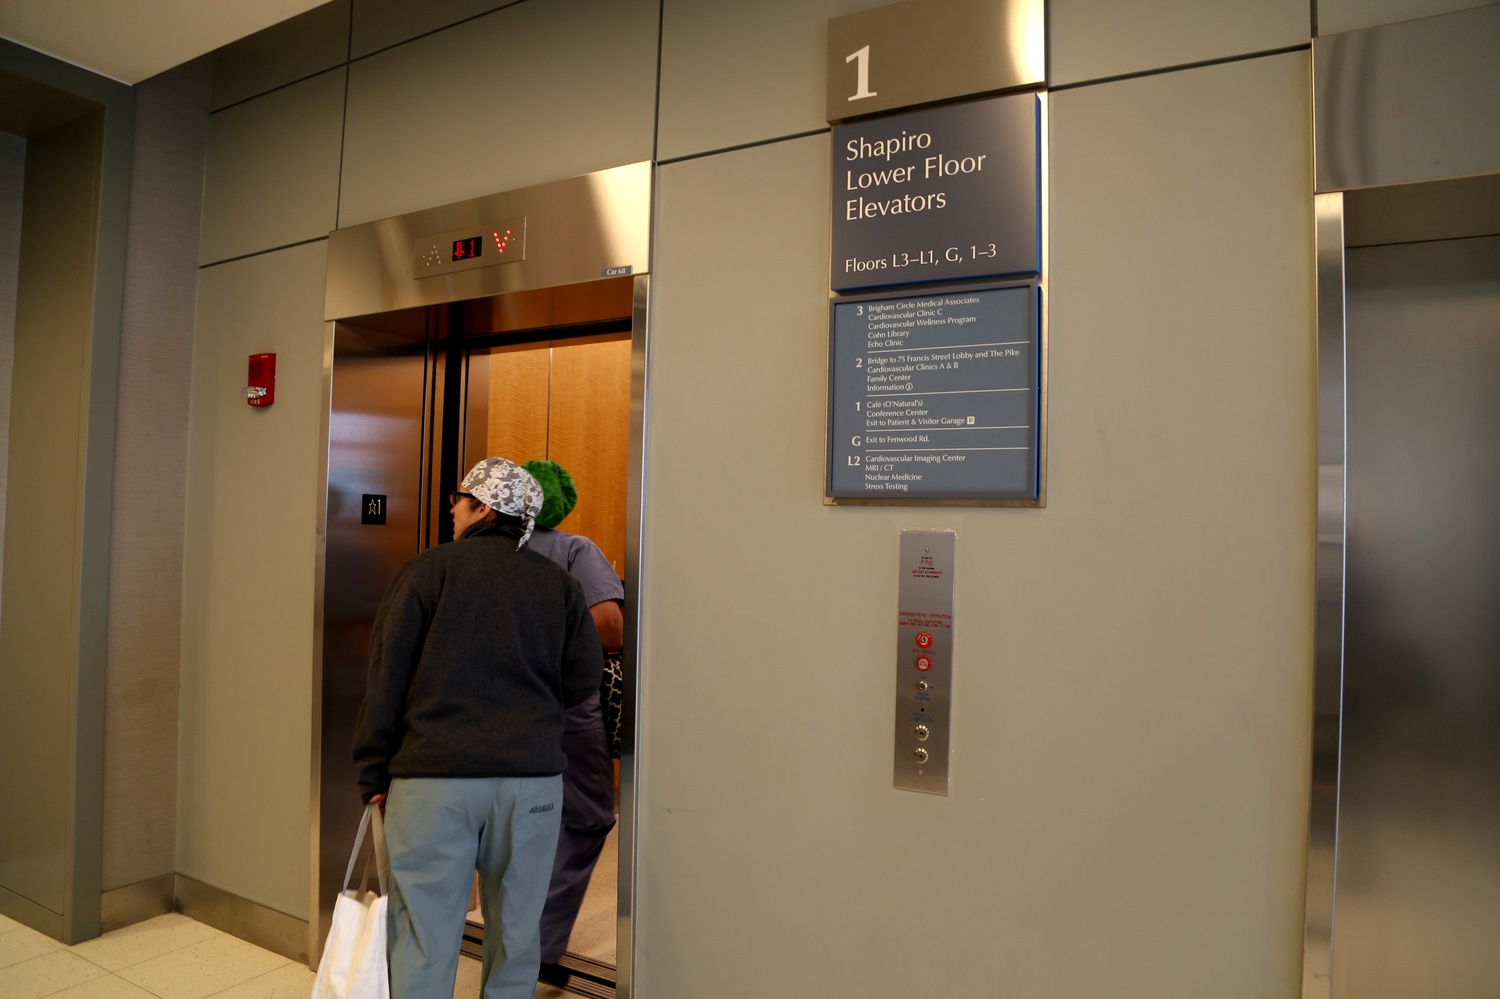elevator_panel: (892, 607, 949, 797)
